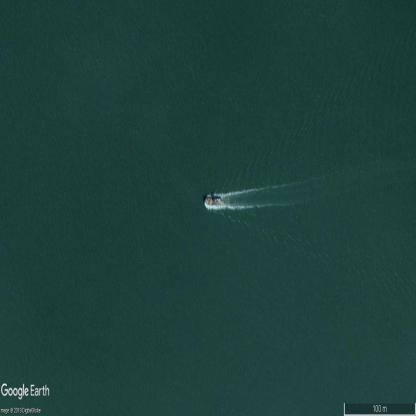ship: (205, 197, 222, 205)
